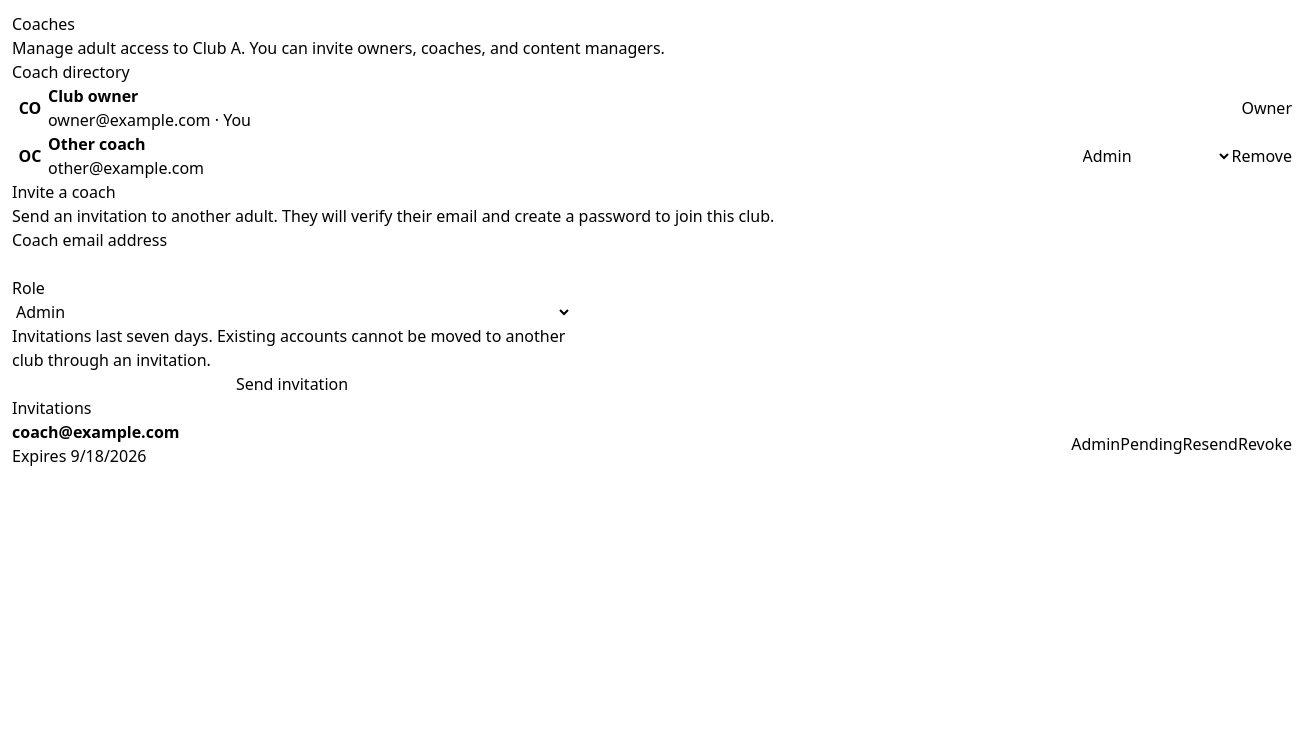
CoachesPage › resends to the stored recipient
Click the button with aria-label "Resend invitation to coach@example.com".
click(1210, 444)  # box [1182,432,1238,456]
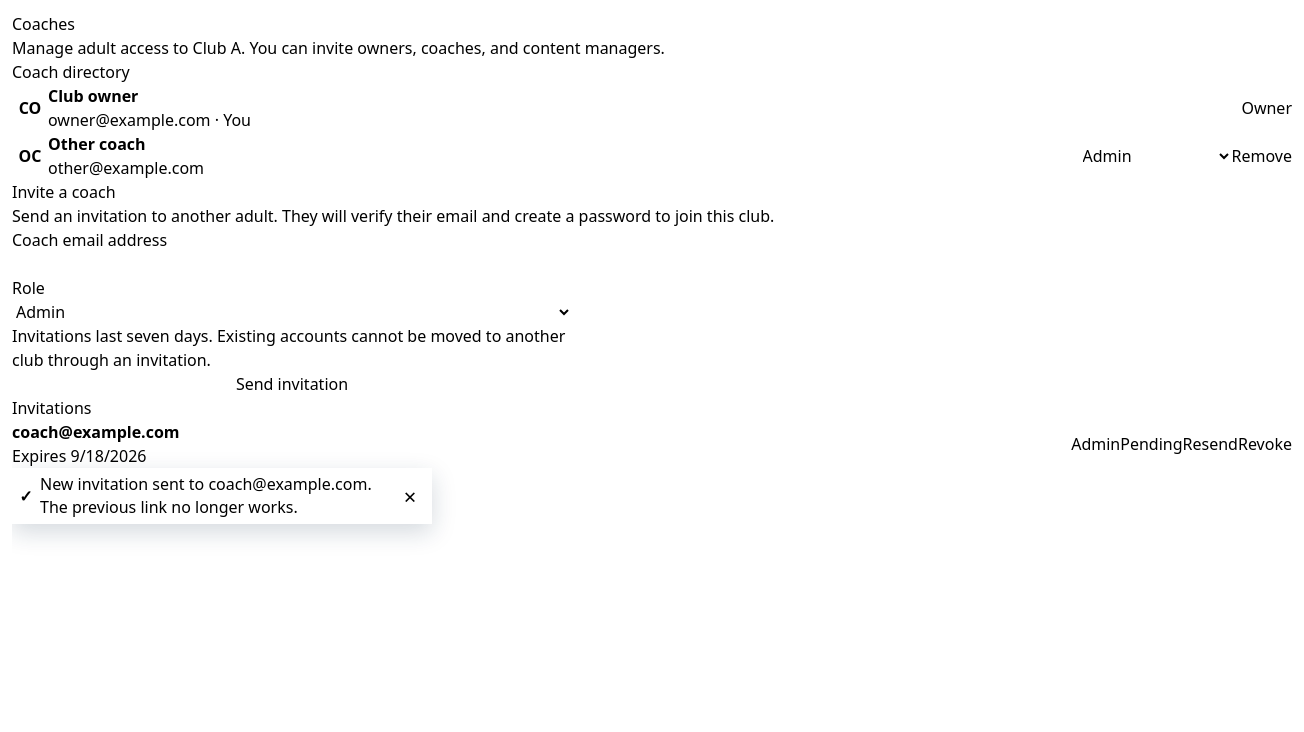
Now the text "New invitation sent to coach@example.com. The previous link no longer works." is shown, box [40,473,388,519]
